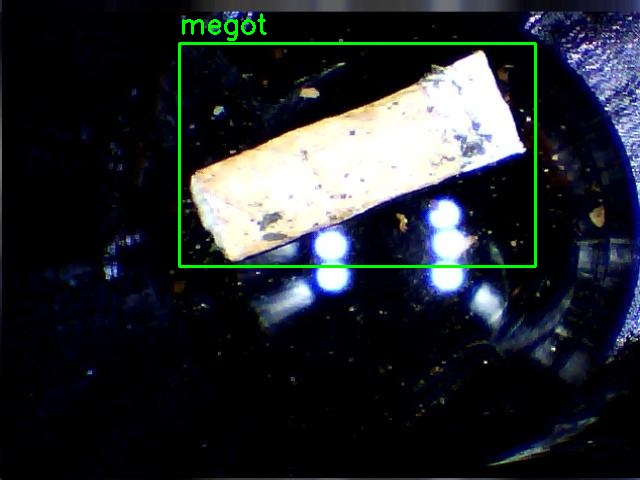megot: (179, 43, 535, 266)
